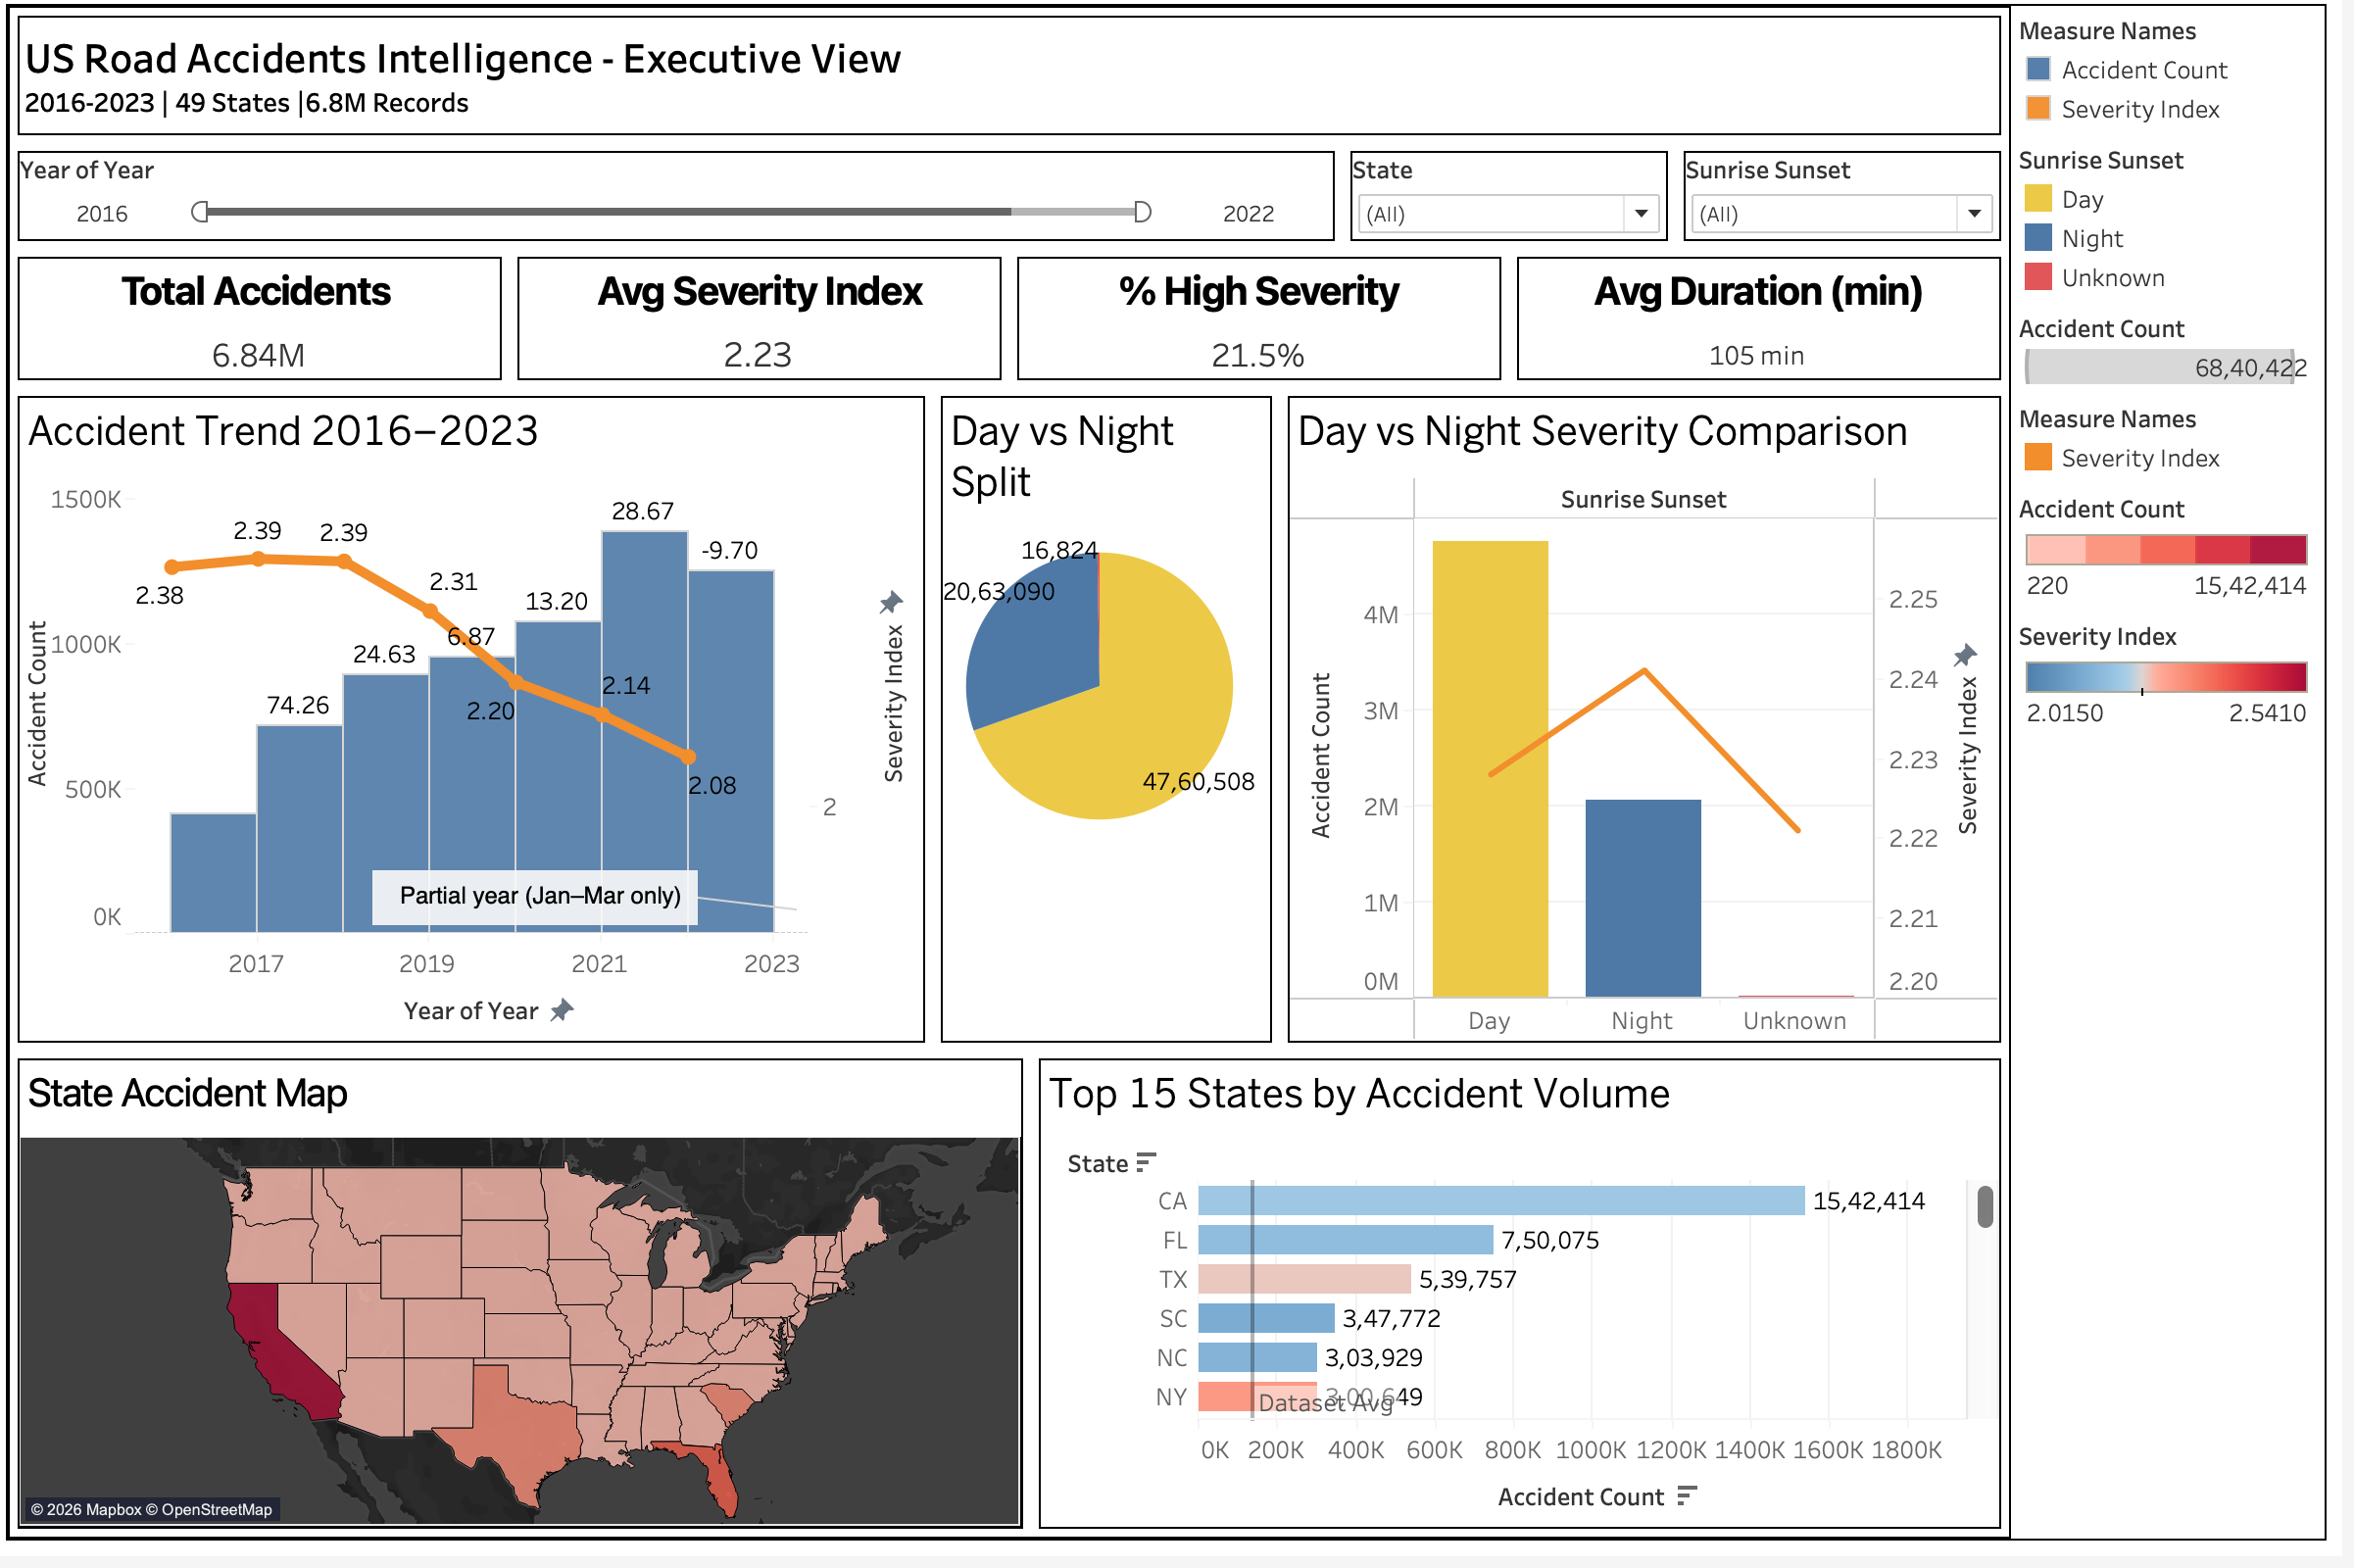

The dashboard page shown, as its layout file describes it:
{"tool":"tableau","page":{"name":"Dashboard 1","canvas":[1200,800],"ordinal":0},"visuals":[{"type":"legend","title":"Accident Trend 2016–2023","param":"[federated.1qphlrd0qibmep1a9rqfa0ml78j6].[:Measure Names]","box":[1031,9,160,66]},{"type":"text","box":[10,10,1020,69]},{"type":"legend","title":"Day vs Night Split","param":"[federated.1u1iwsq03y8dj317zwh4e16tnejo].[none:sunrise_sunset:nk]","box":[1031,75,160,86]},{"type":"filter","title":"Accident Trend 2016–2023","param":"[federated.1qphlrd0qibmep1a9rqfa0ml78j6].[tyr:year:qk]","box":[10,79,680,54]},{"type":"filter","title":"State Accident Map","param":"[federated.1rsizny1e0a6xs1ficzc109jwz0w].[none:state:nk]","box":[690,79,170,54]},{"type":"filter","title":"Day vs Night Split","param":"[federated.1u1iwsq03y8dj317zwh4e16tnejo].[none:sunrise_sunset:nk]","box":[860,79,170,54]},{"type":"worksheet","title":"Total Accidents ","mark":"Automatic","box":[10,133,255,71]},{"type":"worksheet","title":"Avg Severity Index","mark":"Automatic","box":[265,133,255,71]},{"type":"worksheet","title":"% High Severity","mark":"Automatic","box":[520,133,255,71]},{"type":"worksheet","title":"Avg Duration (min)","mark":"Automatic","box":[775,133,255,71]},{"type":"legend","title":"Day vs Night Split","param":"[federated.1u1iwsq03y8dj317zwh4e16tnejo].[sum:accident_count:qk]","box":[1031,161,160,46]},{"type":"worksheet","title":"Accident Trend 2016–2023","mark":"Automatic","rows":["accident_count","severity_index"],"cols":["year"],"box":[10,204,471,338]},{"type":"worksheet","title":"Day vs Night Split","mark":"Pie","box":[481,204,177,338]},{"type":"worksheet","title":"Day vs Night Severity Comparison","mark":"Bar","rows":["accident_count","severity_index"],"cols":["sunrise_sunset"],"box":[658,204,372,338]},{"type":"legend","title":"Day vs Night Severity Comparison","param":"[federated.1u1iwsq03y8dj317zwh4e16tnejo].[:Measure Names]","box":[1031,207,160,46]},{"type":"legend","title":"State Accident Map","param":"[federated.1rsizny1e0a6xs1ficzc109jwz0w].[sum:accident_count:qk]","box":[1031,253,160,65]},{"type":"legend","title":"Top 15 States by Volume","param":"[federated.1rsizny1e0a6xs1ficzc109jwz0w].[sum:severity_index:qk]","box":[1031,318,160,65]},{"type":"worksheet","title":"State Accident Map","mark":"Automatic","box":[10,542,521,248]},{"type":"worksheet","title":"Top 15 States by Volume","mark":"Automatic","rows":["state"],"cols":["accident_count"],"box":[531,542,499,248]}]}

Visuals, with their boxes in screenshot pixels (x1, y1, x2, y2), scaled from the page's 1200x800 canvas onto the 2354x1568 screenshot:
"Accident Trend 2016–2023" legend: BBox(2023, 18, 2336, 147)
text: BBox(20, 20, 2021, 155)
"Day vs Night Split" legend: BBox(2023, 147, 2336, 316)
"Accident Trend 2016–2023" filter: BBox(20, 155, 1353, 261)
"State Accident Map" filter: BBox(1353, 155, 1687, 261)
"Day vs Night Split" filter: BBox(1687, 155, 2021, 261)
"Total Accidents " worksheet: BBox(20, 261, 519, 400)
"Avg Severity Index" worksheet: BBox(519, 261, 1020, 400)
"% High Severity" worksheet: BBox(1020, 261, 1520, 400)
"Avg Duration (min)" worksheet: BBox(1520, 261, 2021, 400)
"Day vs Night Split" legend: BBox(2023, 316, 2336, 406)
"Accident Trend 2016–2023" worksheet: BBox(20, 400, 944, 1062)
"Day vs Night Split" worksheet (Pie marks): BBox(944, 400, 1291, 1062)
"Day vs Night Severity Comparison" worksheet (Bar marks): BBox(1291, 400, 2021, 1062)
"Day vs Night Severity Comparison" legend: BBox(2023, 406, 2336, 496)
"State Accident Map" legend: BBox(2023, 496, 2336, 623)
"Top 15 States by Volume" legend: BBox(2023, 623, 2336, 751)
"State Accident Map" worksheet: BBox(20, 1062, 1042, 1548)
"Top 15 States by Volume" worksheet: BBox(1042, 1062, 2021, 1548)
